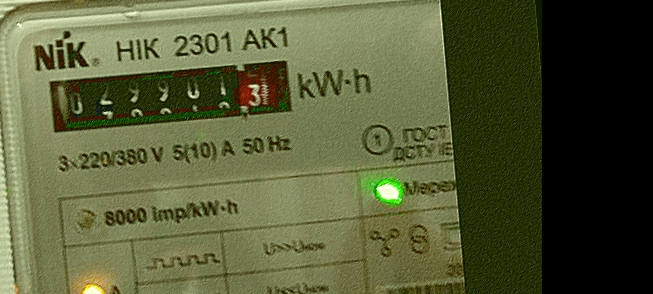0: (63, 86, 84, 114), (181, 70, 200, 100)
1: (212, 66, 228, 95)
2: (93, 77, 113, 105)
3: (242, 78, 262, 106)
9: (123, 75, 141, 103), (154, 73, 169, 101)
screen: (37, 47, 302, 141)
